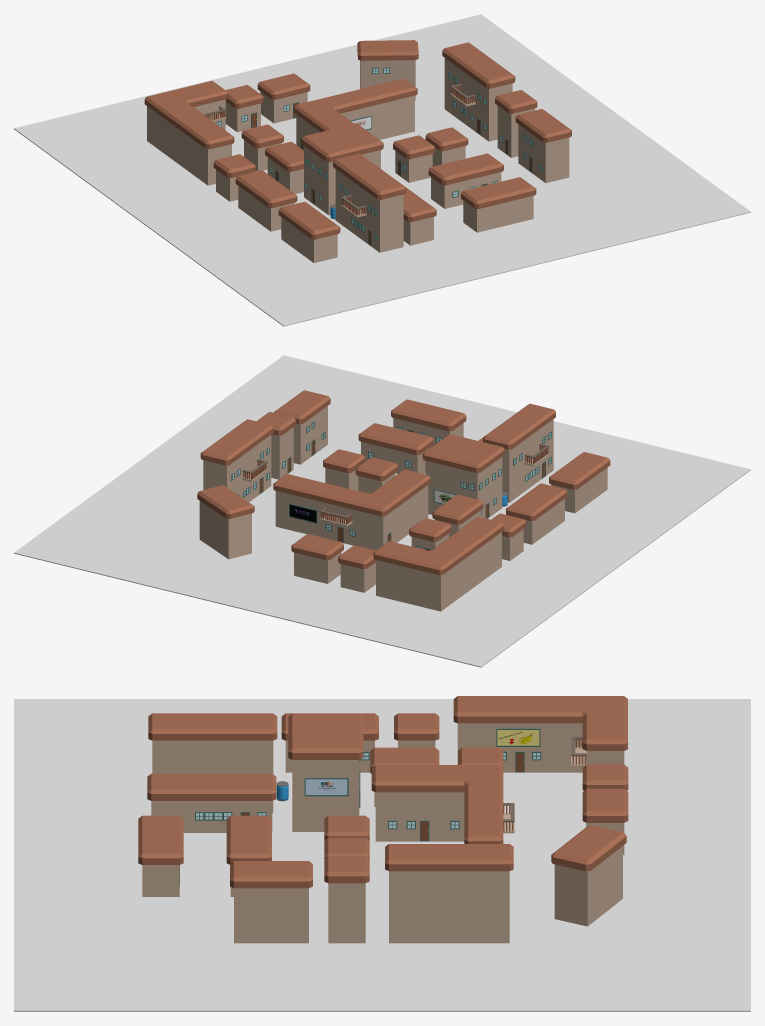
Rendered from Level_1.gltf.
3 renders of one model, top to bottom at view 1: azimuth 30°, elevation 25°; view 2: azimuth 150°, elevation 25°; view 3: azimuth 270°, elevation 25°, orthographic. The views are drawn at different scales.
Parts seen in each view (by area): view 1: Floor, Roof.004, Base.006, Roof.012, Base.004, Base.016, Roof.009, Base.022, Base.014, Roof.014, Roof.005, Base.018 (+26 smaller); view 2: Floor, Roof.012, Roof.004, Base.004, Base.010, Base.013, Base.014, Base.006, Base.016, Base.015, Roof.009, Roof.014 (+24 smaller); view 3: Floor, Base.016, Roof.004, Roof.012, Base.022, Base.006, Base.013, Base.004, Base.015, Roof.005, Roof.008, Roof.014 (+21 smaller).
Boxes of the visible parts, left/top/right/bottom form: Floor: left=14, top=14, right=750, bottom=326; Roof.004: left=144, top=81, right=234, bottom=149; Base.006: left=335, top=169, right=403, bottom=252; Roof.012: left=294, top=78, right=417, bottom=131; Base.004: left=147, top=106, right=231, bottom=185; Base.016: left=444, top=58, right=512, bottom=141; Roof.009: left=301, top=123, right=383, bottom=162; Base.022: left=518, top=124, right=569, bottom=182; Base.014: left=341, top=95, right=414, bottom=139; Roof.014: left=442, top=42, right=515, bottom=88; Roof.005: left=333, top=153, right=405, bottom=199; Base.018: left=463, top=196, right=533, bottom=232; Floor: left=14, top=355, right=750, bottom=667; Roof.012: left=273, top=469, right=430, bottom=516; Roof.004: left=373, top=516, right=504, bottom=575; Base.004: left=417, top=532, right=501, bottom=611; Base.010: left=425, top=457, right=502, bottom=518; Base.013: left=359, top=485, right=428, bottom=550; Base.014: left=275, top=491, right=359, bottom=546; Base.006: left=502, top=419, right=553, bottom=502; Base.016: left=203, top=435, right=271, bottom=502; Base.015: left=199, top=501, right=251, bottom=559; Roof.009: left=422, top=434, right=504, bottom=472; Roof.014: left=200, top=419, right=273, bottom=465; Floor: left=14, top=699, right=750, bottom=1011; Base.016: left=389, top=871, right=509, bottom=943; Roof.004: left=453, top=696, right=627, bottom=750; Roof.012: left=371, top=765, right=503, bottom=843; Base.022: left=234, top=888, right=308, bottom=943; Base.006: left=152, top=740, right=273, bottom=812; Base.013: left=375, top=792, right=464, bottom=841; Base.004: left=457, top=723, right=582, bottom=772; Base.015: left=554, top=846, right=622, bottom=926; Roof.005: left=148, top=713, right=277, bottom=740; Roof.008: left=147, top=773, right=276, bottom=800; Roof.014: left=385, top=844, right=513, bottom=871.
Size of the model in its own units: 78.78 by 11.92 by 78.78.
Materials: 18 (5 with a texture image).
